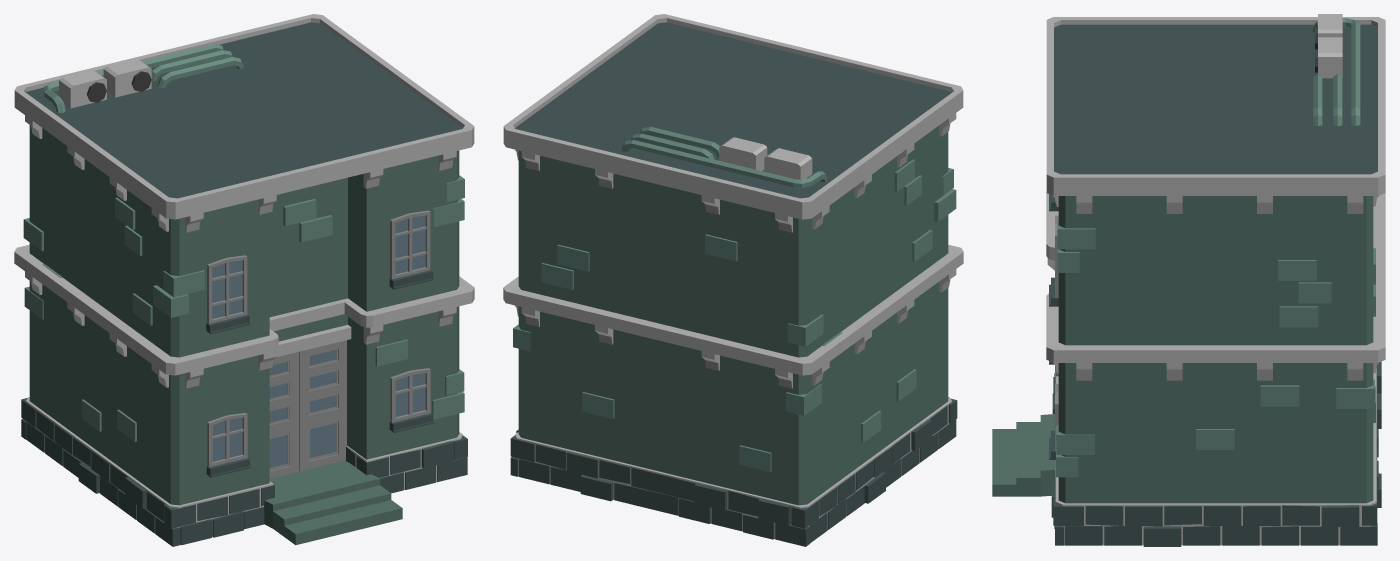
Rendered from 2Story_Center_Mat.glb.
The picture shows the model from 3 angles, left to right: view 1: azimuth 30°, elevation 25°; view 2: azimuth 150°, elevation 25°; view 3: azimuth 270°, elevation 25°; orthographic projection. The views are drawn at different scales.
Parts seen in each view (by area): view 1: 2Story_Center_Mat; view 2: 2Story_Center_Mat; view 3: 2Story_Center_Mat.
Boxes of the visible parts, left/top/right/bottom form: 2Story_Center_Mat: left=14, top=14, right=474, bottom=546; 2Story_Center_Mat: left=503, top=14, right=963, bottom=546; 2Story_Center_Mat: left=992, top=14, right=1385, bottom=546.
Size of the model in its own units: 2.42 by 2.74 by 2.5.
